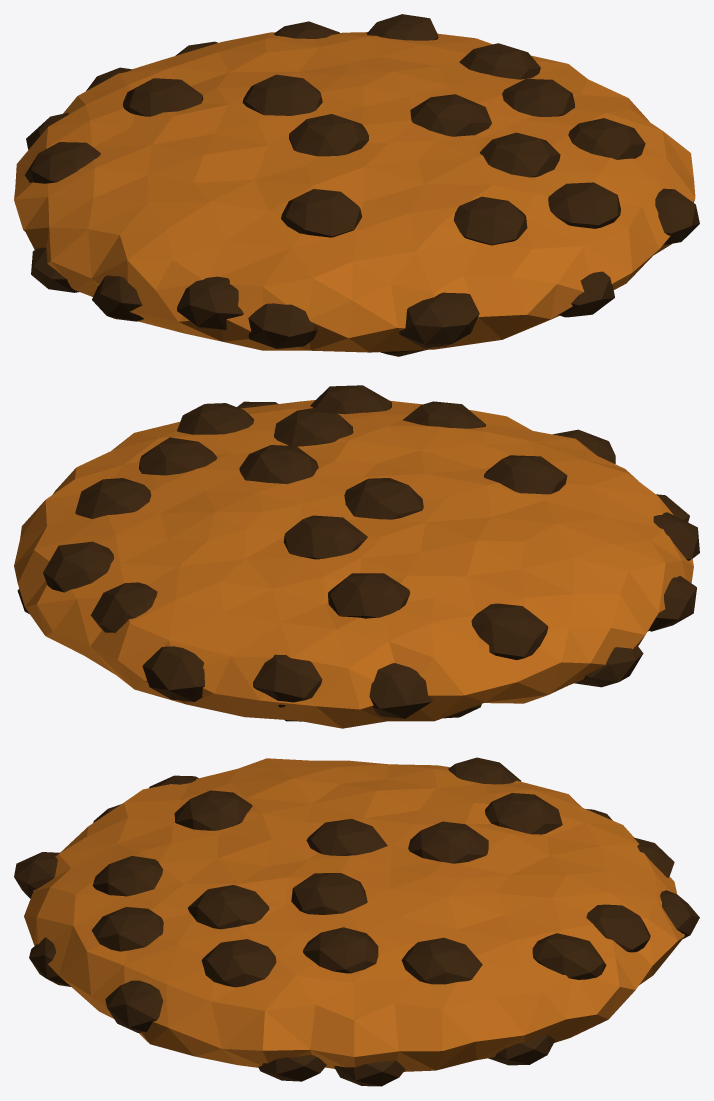
The model's file is CookieBasic.fbx.
The picture shows the model from 3 angles, top to bottom: view 1: azimuth 30°, elevation 25°; view 2: azimuth 150°, elevation 25°; view 3: azimuth 270°, elevation 25°; orthographic projection. The views are drawn at different scales.
Parts seen in each view (by area): view 1: cookie; view 2: cookie; view 3: cookie.
Part boxes in pixels (box(x1,y1,x2,y2)): cookie: box(14, 14, 699, 356); cookie: box(14, 385, 699, 728); cookie: box(14, 757, 699, 1086).
Bounding box in the file's own units: 0.9435 × 0.252 × 0.9672.
